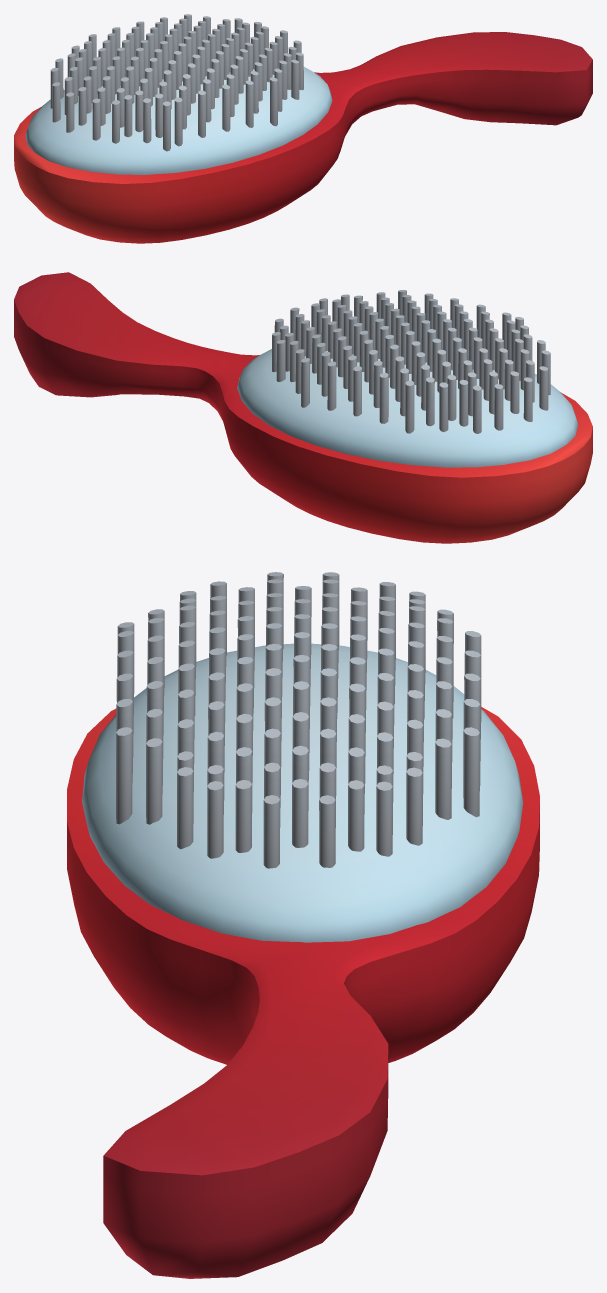
The model's file is Hair_brush.fbx.
3 renders of one model, top to bottom at view 1: azimuth 30°, elevation 25°; view 2: azimuth 150°, elevation 25°; view 3: azimuth 270°, elevation 25°, orthographic. The views are drawn at different scales.
Parts seen in each view (by area): view 1: Hair_brush; view 2: Hair_brush; view 3: Hair_brush.
Boxes of the visible parts, <box> form: Hair_brush: <box>14,14,592,243</box>; Hair_brush: <box>14,272,592,543</box>; Hair_brush: <box>67,572,539,1278</box>.
Bounding box in the file's own units: 6.03 × 1.88 × 2.33.
